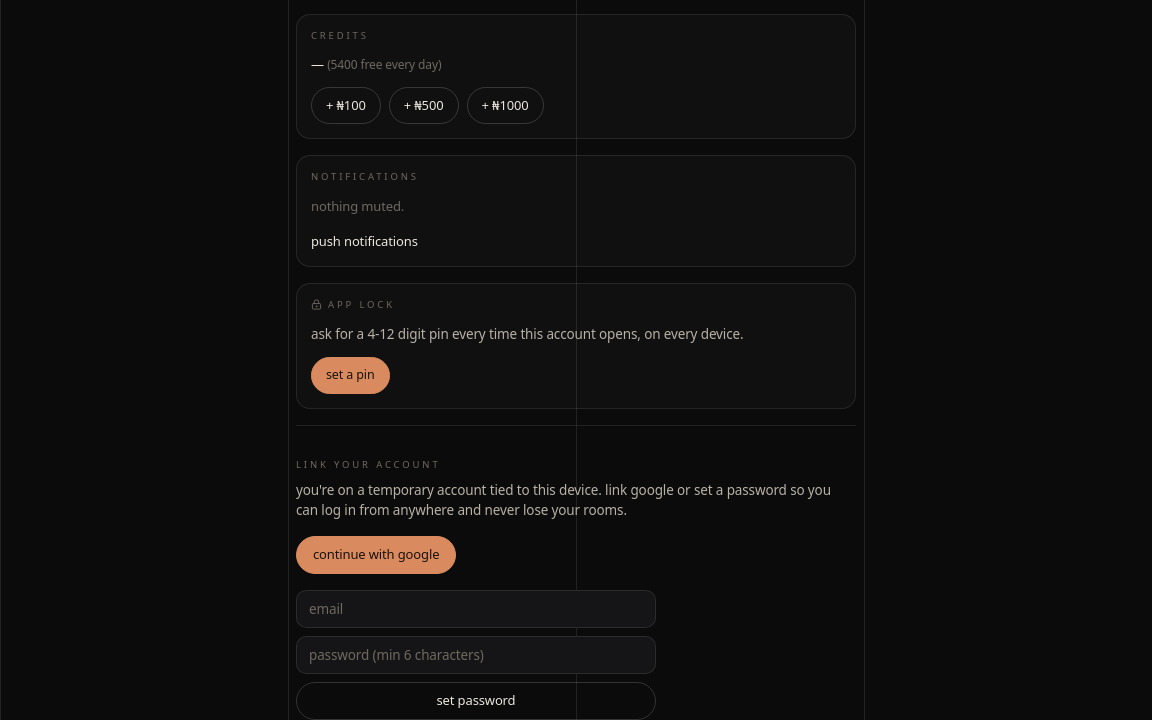
Test: link-account section › shows the success message and invalidates the load on a 200
(page scrolled)
Type "e@x.com" into the field with placeholder "email" at [476, 609], box [296,590,656,628]
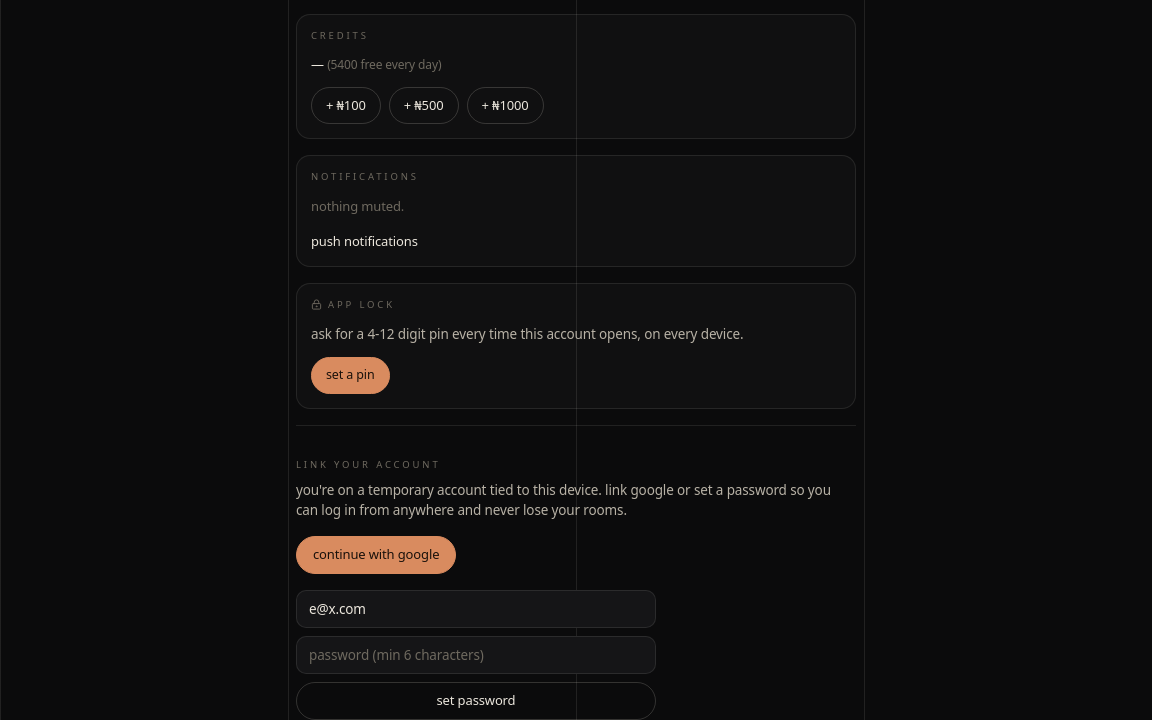
Type "hunter22" into the password field with placeholder "password (min 6 characters)" at [476, 655], box [296,636,656,674]
(page scrolled)
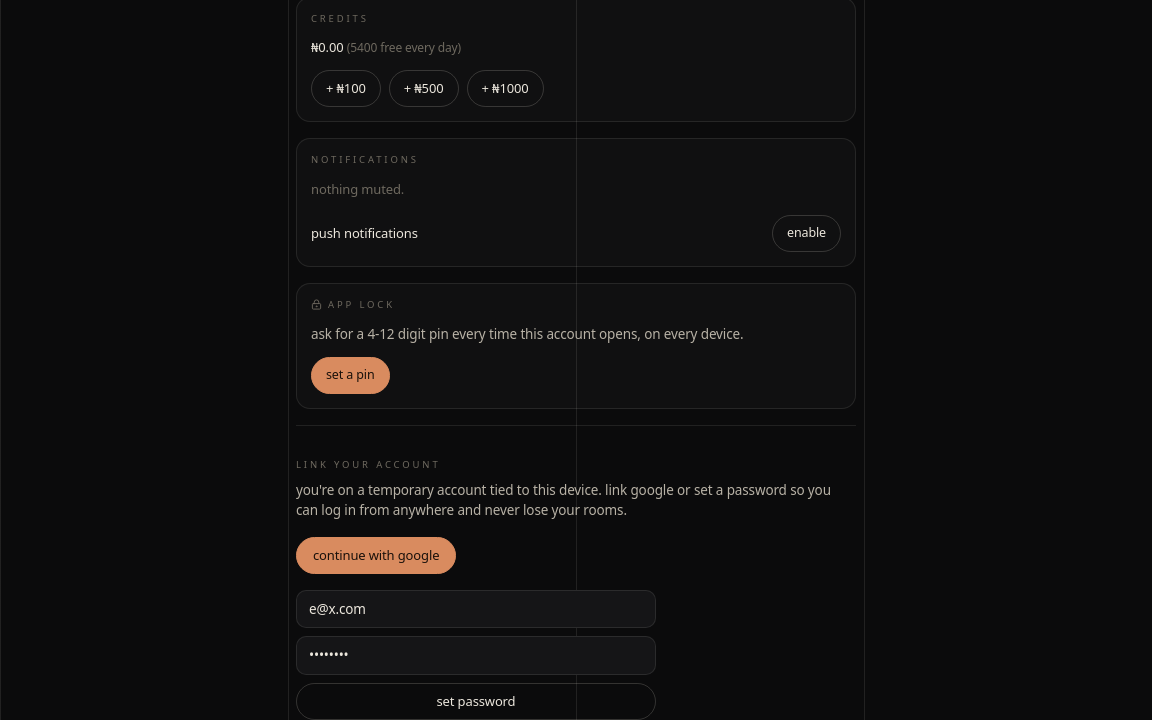
Click the button "set password" at [476, 701], box [296,682,656,719]
(page scrolled)
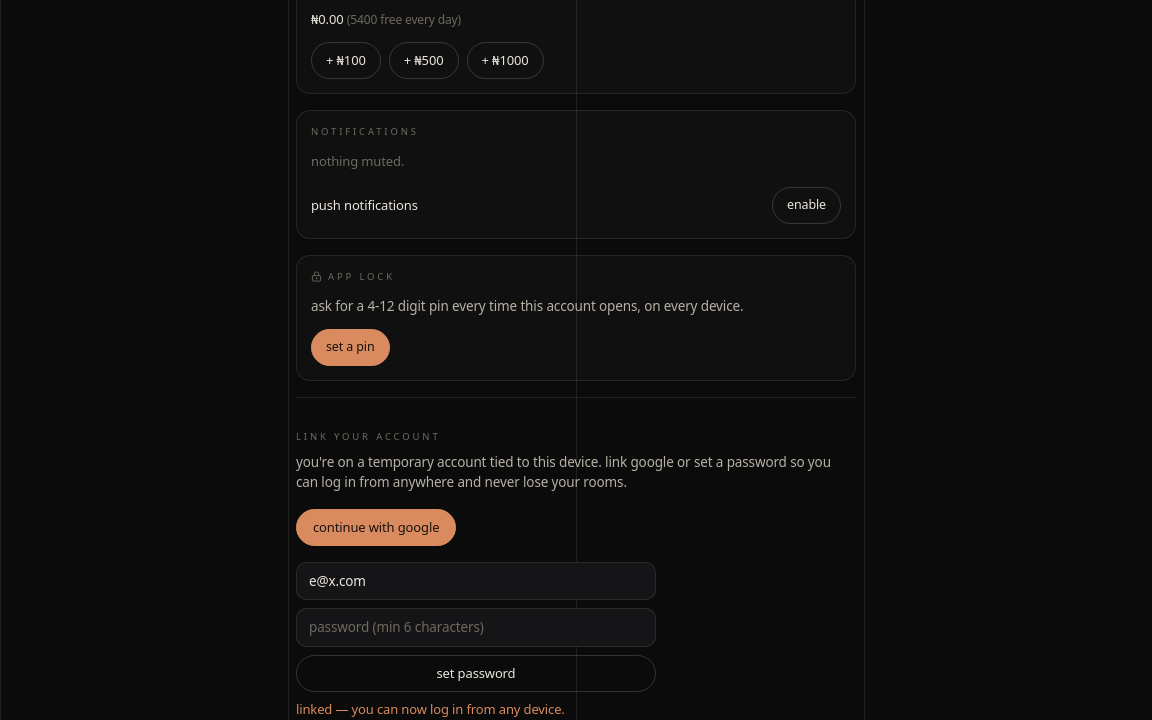
expect the text "linked — you can now log in from any device." is shown: met, box [296,700,565,718]
